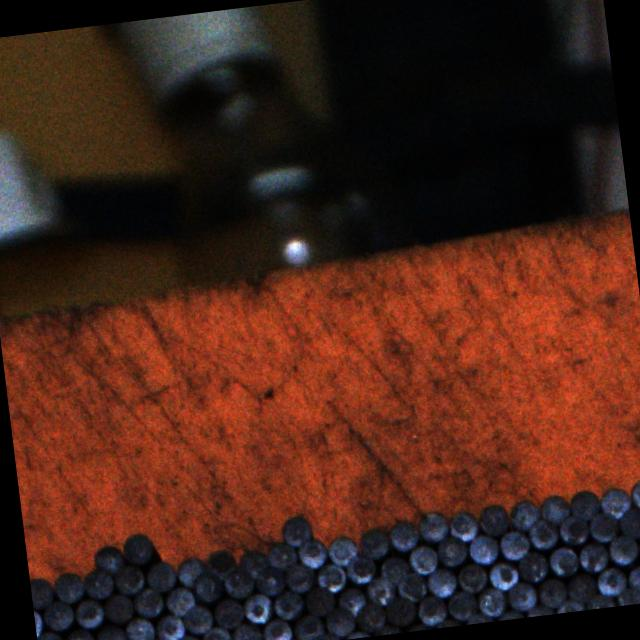tool: (328, 571, 378, 618), (208, 594, 246, 630), (475, 501, 511, 538), (120, 530, 156, 566), (314, 557, 348, 595), (380, 594, 416, 628), (444, 588, 480, 622), (38, 598, 74, 632), (79, 565, 115, 599), (599, 484, 632, 520), (300, 583, 336, 616), (414, 592, 448, 626), (534, 575, 568, 609), (546, 543, 580, 577), (386, 518, 420, 552), (466, 532, 500, 566), (506, 497, 540, 531), (71, 596, 105, 630), (100, 590, 134, 624), (130, 586, 164, 620), (252, 562, 286, 596), (280, 512, 314, 546), (376, 553, 411, 586), (586, 510, 621, 543), (505, 578, 538, 612), (516, 550, 549, 584), (356, 526, 389, 560), (435, 533, 468, 567), (446, 509, 479, 543), (496, 527, 530, 560), (181, 602, 214, 636), (241, 590, 274, 624), (190, 568, 223, 602), (222, 566, 256, 599), (283, 560, 316, 594), (51, 569, 84, 603), (595, 564, 630, 596), (290, 609, 326, 640), (406, 543, 439, 576), (363, 574, 397, 606), (393, 570, 427, 602), (454, 562, 488, 594), (486, 558, 518, 592), (606, 534, 640, 566), (416, 510, 450, 542), (567, 488, 601, 520), (354, 600, 386, 634), (270, 588, 304, 620), (162, 584, 196, 616), (343, 552, 376, 584), (538, 492, 570, 525), (111, 562, 144, 594), (326, 533, 358, 566), (90, 543, 123, 575), (151, 610, 186, 640), (476, 586, 508, 618), (424, 567, 456, 599), (577, 540, 609, 572), (526, 518, 558, 550), (324, 606, 356, 638), (173, 556, 205, 588), (296, 536, 328, 568), (566, 570, 598, 601), (556, 514, 588, 545), (144, 559, 175, 591), (205, 547, 238, 577), (29, 574, 56, 610), (236, 545, 268, 575), (266, 540, 298, 570), (259, 615, 295, 640), (122, 614, 155, 640), (618, 505, 640, 537), (230, 620, 263, 640), (92, 621, 126, 640), (613, 583, 640, 606), (584, 591, 616, 610), (198, 623, 232, 640), (554, 596, 586, 614), (60, 625, 96, 640), (627, 475, 640, 510), (627, 561, 640, 594), (36, 629, 63, 640), (169, 631, 201, 640)
